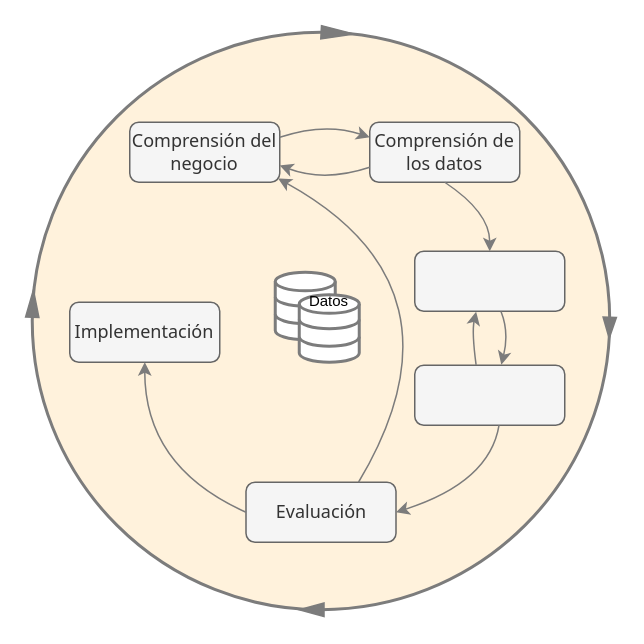
Some shapes in this 644 by 644 pixel diagram are drawn without their labels. Here are the shapes that lost their labels. From the top down, the box of each, then its label:
(413, 250, 565, 311): Preparación de los datos
(413, 364, 565, 425): Modelado
